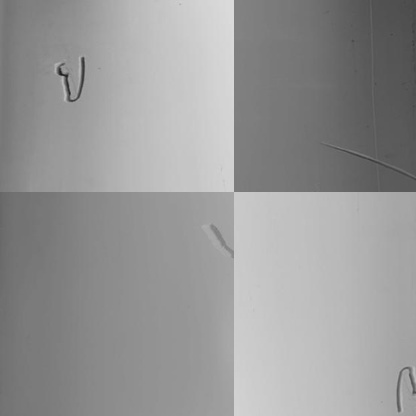fengxi: (53, 50, 97, 106), (389, 361, 416, 412)
sunshang: (320, 141, 413, 182), (197, 216, 231, 256)
